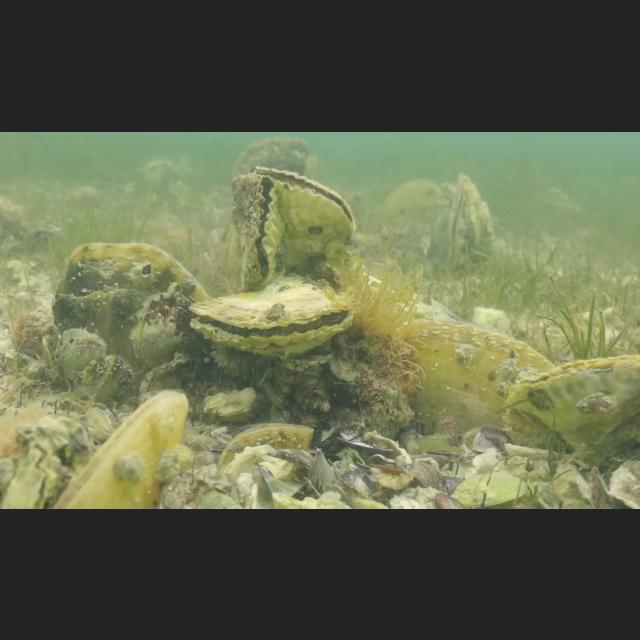Oyster-Closed: (48, 238, 212, 374), (394, 314, 556, 446), (53, 387, 189, 509), (501, 351, 640, 454), (439, 170, 496, 272), (218, 417, 316, 473), (78, 354, 136, 408), (140, 351, 192, 397)
Oyster-Open: (186, 276, 358, 358), (248, 162, 354, 268), (230, 172, 286, 288), (0, 434, 58, 508), (58, 326, 108, 384)
